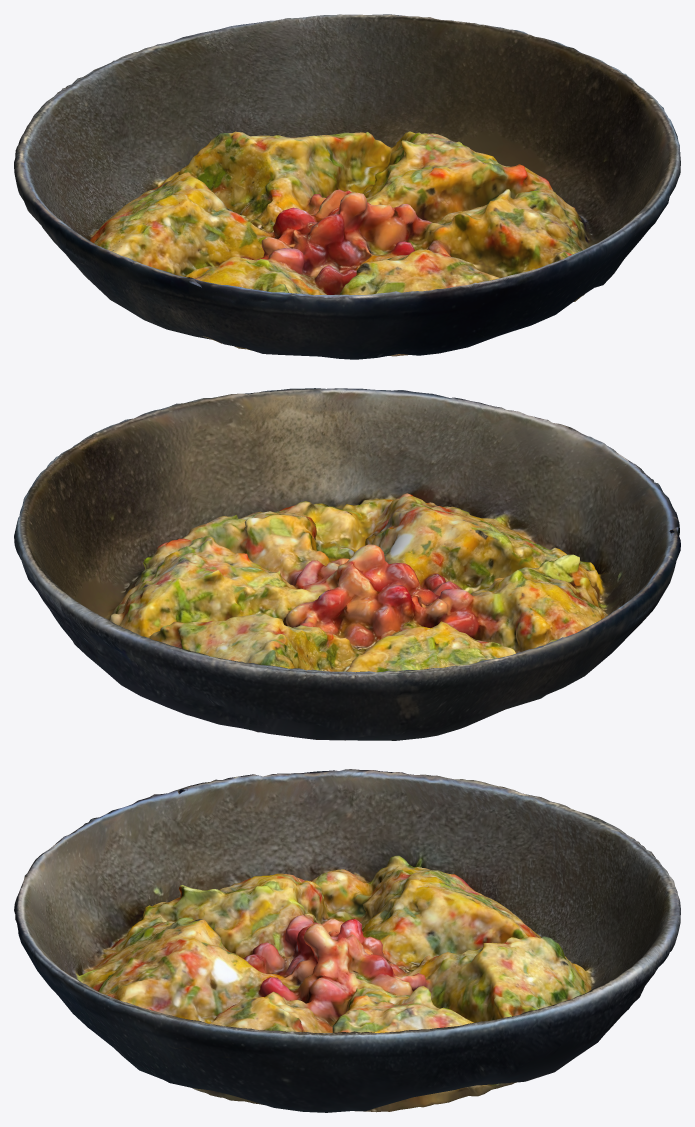
The model's file is Mtabal Baba Ghanooj Breakfast.glb.
3 views of the same model, one above another, from view 1: azimuth 30°, elevation 25°; view 2: azimuth 150°, elevation 25°; view 3: azimuth 270°, elevation 25° (orthographic).
Visible parts, largest first — view 1: ObjectCapture; view 2: ObjectCapture; view 3: ObjectCapture.
Part boxes in pixels (<box>): ObjectCapture: <box>14,14,680,359</box>; ObjectCapture: <box>14,388,680,740</box>; ObjectCapture: <box>14,769,680,1112</box>.
Bounding box in the file's own units: 0.1838 × 0.0405 × 0.1849.
Materials: 1 (1 with a texture image).
